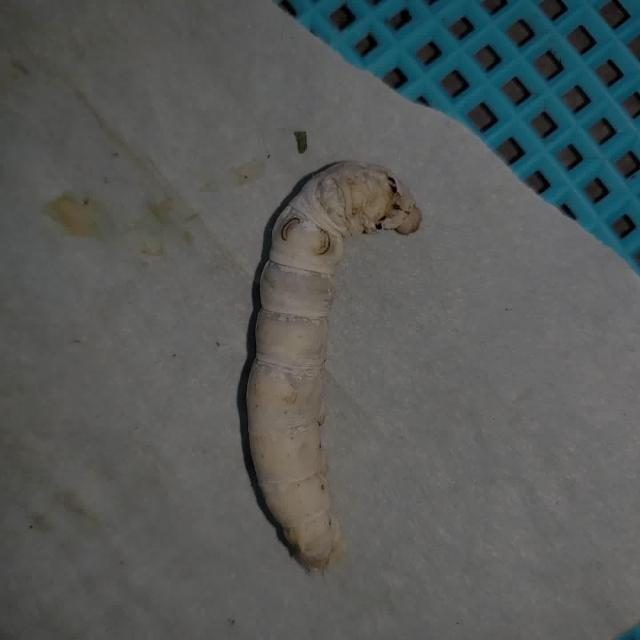Grasserie: (228, 133, 428, 580)
